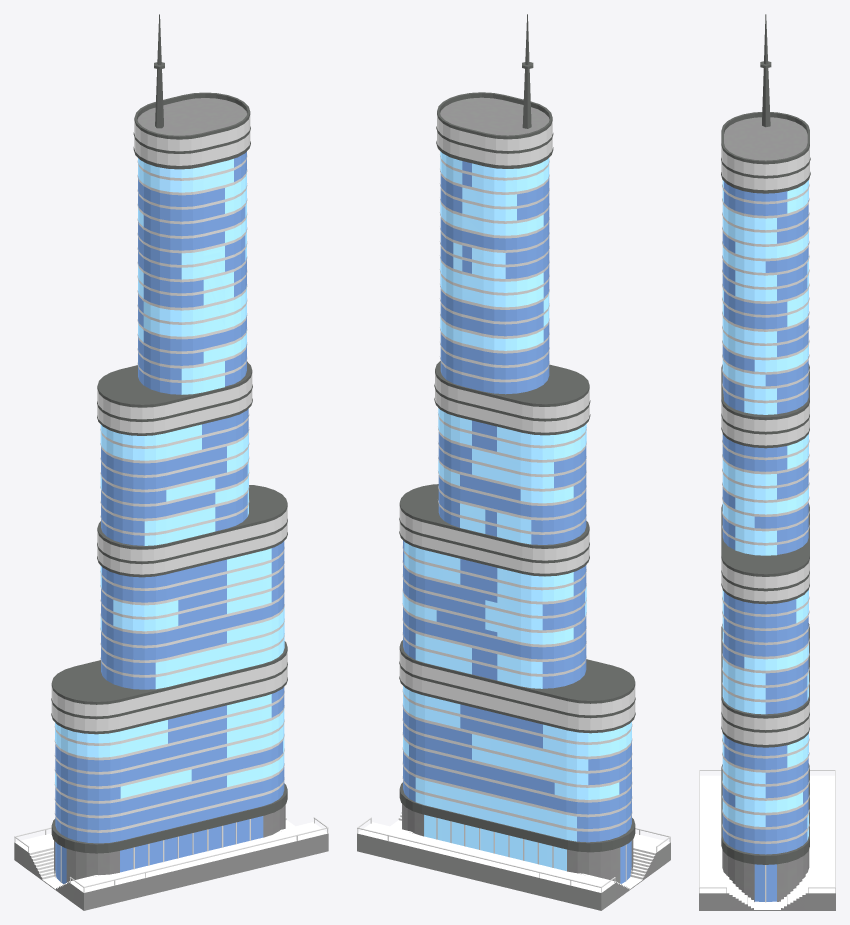
The model's file is skyscraper.001.glb.
The picture shows the model from 3 angles, left to right: view 1: azimuth 30°, elevation 25°; view 2: azimuth 150°, elevation 25°; view 3: azimuth 270°, elevation 25°; orthographic projection.
Visible parts, largest first — view 1: skyscraper.001(Clone); view 2: skyscraper.001(Clone); view 3: skyscraper.001(Clone).
Part boxes in pixels (box(x1,y1,x2,y2)): skyscraper.001(Clone): box(14, 14, 328, 910); skyscraper.001(Clone): box(357, 14, 670, 910); skyscraper.001(Clone): box(699, 14, 835, 910).
Size of the model in its own units: 29.88 by 98.74 by 14.71.
1 material, 1 textured.
